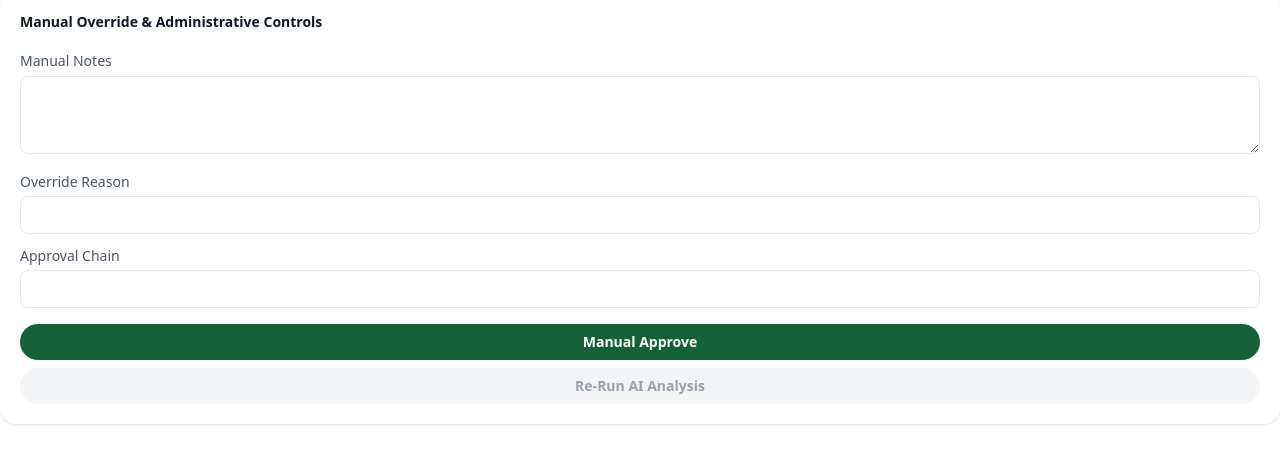
Scenario: ManualOverridePanel › shows the server error and does not update the badge when the save fails
The width and height of the screenshot is (1280, 470).
What coordinates should you click on to do the following:
click the button "Manual Approve"
I would click on:
 (640, 342)
Its box is [20,324,1260,360].
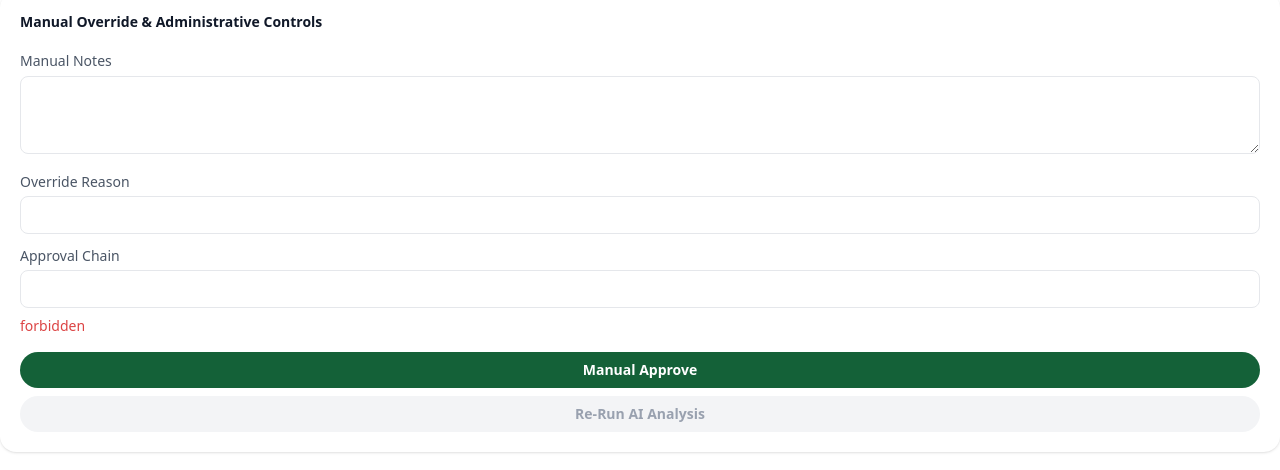
Expected: the text "forbidden" is shown, [20,316,85,335]
